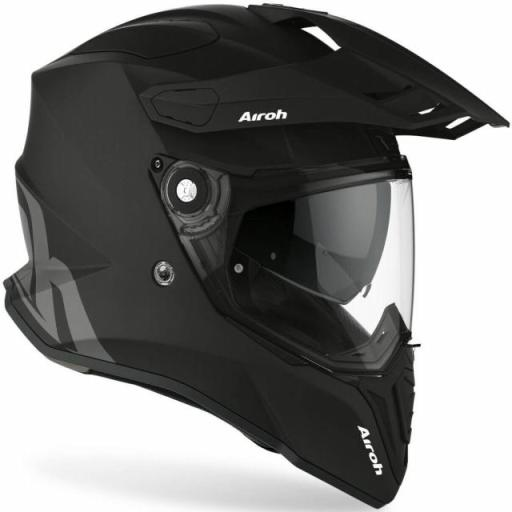Helmet: (5, 5, 507, 506)
